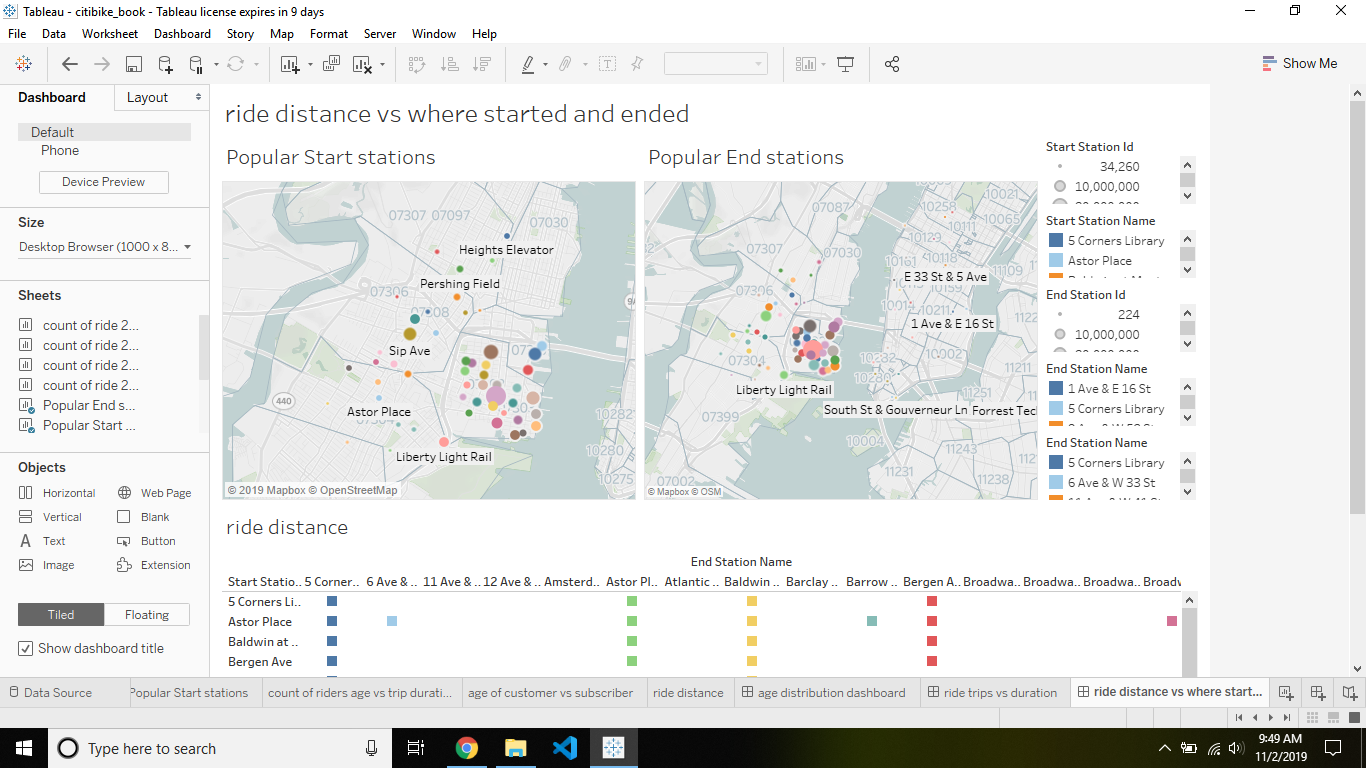

This screenshot's page, from the dashboard's own definition file:
{"tool":"tableau","page":{"name":"ride distance vs where started and ended","canvas":[1000,800],"ordinal":1},"visuals":[{"type":"title","box":[8,8,984,42]},{"type":"worksheet","title":"Popular Start stations","mark":"Automatic","rows":["start station latitude"],"cols":["start station longitude"],"box":[8,50,422,370.2]},{"type":"worksheet","title":"Popular End stations","mark":"Automatic","rows":["end station latitude"],"cols":["end station longitude"],"box":[430,50,402,370.2]},{"type":"legend","title":"Popular Start stations","param":"[federated.0jtut6716ec2pl1cd65bg032c2pi].[sum:start station id:qk]","box":[832,50,160,74]},{"type":"legend","title":"Popular Start stations","param":"[federated.0jtut6716ec2pl1cd65bg032c2pi].[none:start station name:nk]","box":[832,124,160,74]},{"type":"legend","title":"Popular End stations","param":"[federated.0jtut6716ec2pl1cd65bg032c2pi].[sum:end station id:qk]","box":[832,198.1,160,74]},{"type":"legend","title":"Popular End stations","param":"[federated.0jtut6716ec2pl1cd65bg032c2pi].[none:end station name:nk]","box":[832,272.1,160,74]},{"type":"legend","title":"ride distance","param":"[federated.06rhyts0z1k0mk18vb6xi11zjzrr].[none:end station name:nk]","box":[832,346.2,160,74.1]},{"type":"worksheet","title":"ride distance","mark":"Automatic","rows":["start station name"],"cols":["end station name"],"box":[8,420.2,984,371.8]}]}

Visuals, with their boxes on the page's 1000x800 design canvas (x1, y1, x2, y2). These are canvas units, not pixel positions in the 1366x768 screenshot, which may show the page scaled, cropped or inside an application window:
title: [left=8, top=8, right=992, bottom=50]
"Popular Start stations" worksheet: [left=8, top=50, right=430, bottom=420]
"Popular End stations" worksheet: [left=430, top=50, right=832, bottom=420]
"Popular Start stations" legend: [left=832, top=50, right=992, bottom=124]
"Popular Start stations" legend: [left=832, top=124, right=992, bottom=198]
"Popular End stations" legend: [left=832, top=198, right=992, bottom=272]
"Popular End stations" legend: [left=832, top=272, right=992, bottom=346]
"ride distance" legend: [left=832, top=346, right=992, bottom=420]
"ride distance" worksheet: [left=8, top=420, right=992, bottom=792]
